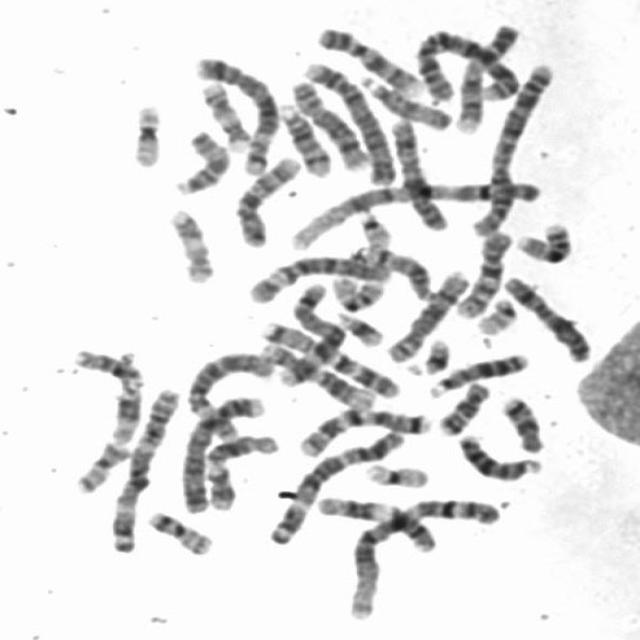A1: (340, 490, 506, 623), (283, 173, 540, 252)
A2: (468, 56, 560, 239), (410, 24, 523, 104)
A3: (262, 424, 410, 546), (104, 380, 183, 555)
B4: (296, 56, 400, 186), (172, 389, 268, 515)
B5: (191, 50, 282, 176), (273, 281, 344, 387)
C10: (230, 151, 304, 248), (452, 225, 516, 320)
C11: (313, 490, 441, 554), (65, 344, 145, 445)
C12: (257, 336, 382, 412), (200, 429, 280, 512)
C6: (183, 346, 275, 443), (243, 250, 392, 305)
C7: (258, 318, 404, 400), (292, 402, 435, 459)
C8: (381, 264, 472, 365), (285, 72, 374, 174)
C9: (314, 20, 428, 96), (448, 18, 522, 135)
D13: (423, 347, 532, 399), (453, 428, 545, 482)
D14: (352, 242, 437, 302), (275, 98, 336, 178)
D15: (354, 68, 454, 132), (168, 125, 234, 197)
E16: (511, 217, 576, 265), (326, 270, 388, 312)
E17: (164, 202, 218, 286), (196, 75, 254, 152)
E18: (431, 376, 492, 436), (496, 390, 549, 455)
F19: (125, 98, 166, 169), (358, 457, 432, 490)
F20: (142, 505, 216, 557), (70, 436, 133, 494)
G21: (331, 306, 387, 348), (406, 333, 454, 377)
G22: (472, 293, 520, 336), (353, 206, 395, 250)
X: (500, 270, 596, 364), (384, 110, 453, 233)
